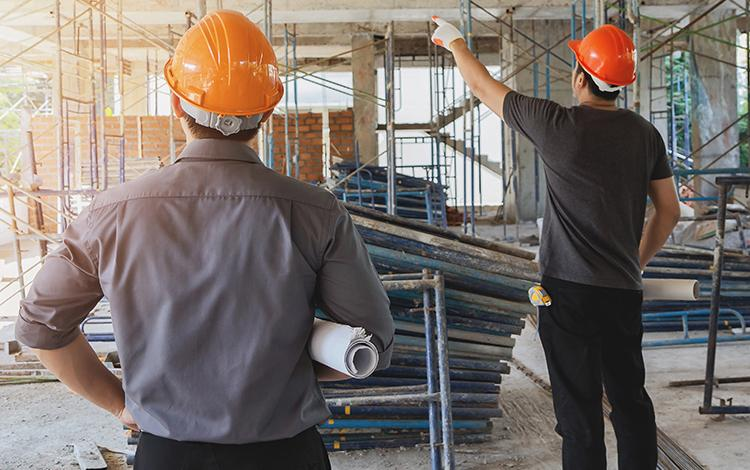helmet: (163, 8, 286, 120), (569, 23, 641, 89)
